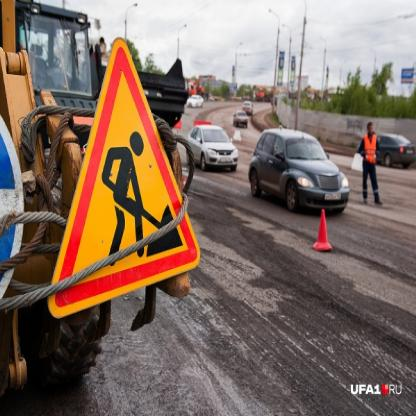light_vehicle: (247, 119, 363, 226), (182, 108, 242, 178)
person: (361, 110, 386, 218)
